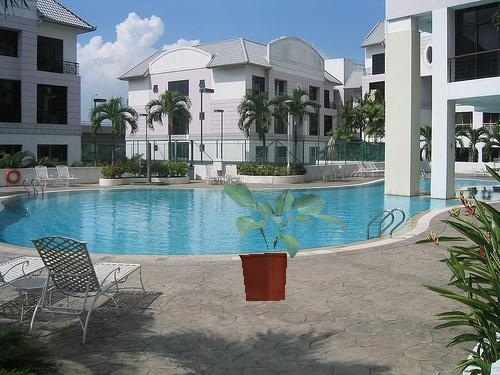tampered: (225, 185, 347, 301)
